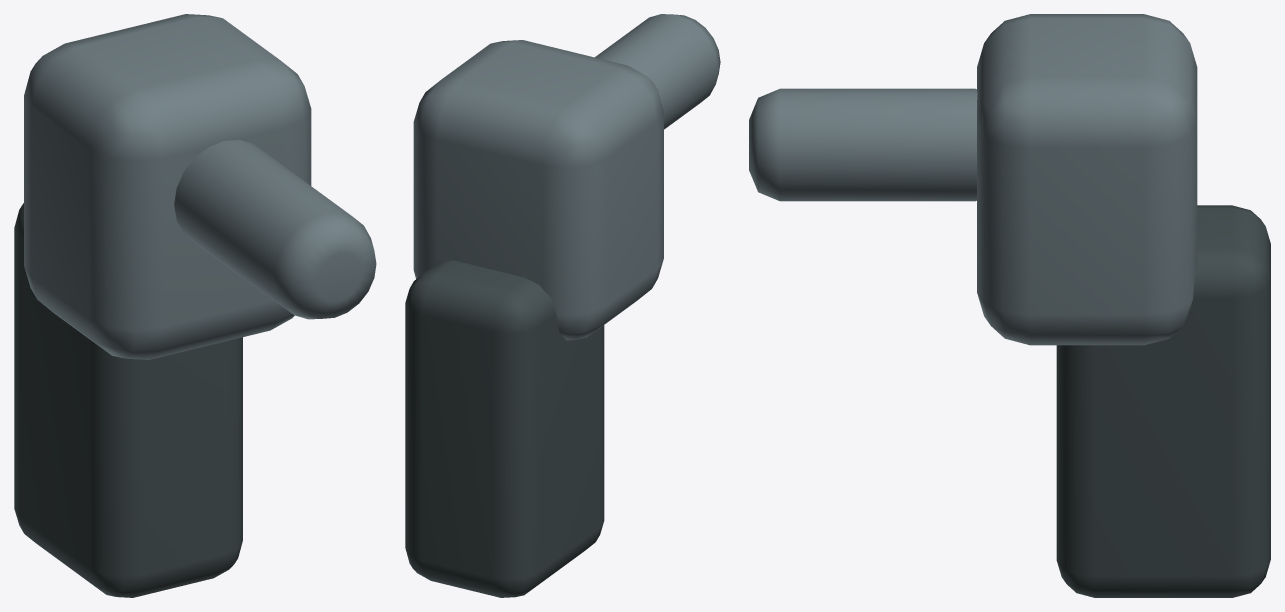
File: weapon_pistol.glb
3 views of the same model, side by side, from view 1: azimuth 30°, elevation 25°; view 2: azimuth 150°, elevation 25°; view 3: azimuth 270°, elevation 25° (orthographic). The views are drawn at different scales.
Visible parts, largest first — view 1: Receiver.005, Grip.005, Weapon barrel.005; view 2: Grip.005, Receiver.005, Weapon barrel.005; view 3: Receiver.005, Grip.005, Weapon barrel.005.
Boxes of the visible parts, x1,y1,x2,y2 form: Receiver.005: (24, 14, 311, 359); Grip.005: (14, 203, 242, 597); Weapon barrel.005: (174, 140, 376, 319); Grip.005: (405, 260, 604, 597); Receiver.005: (413, 40, 663, 340); Weapon barrel.005: (595, 14, 720, 129); Receiver.005: (977, 14, 1197, 345); Grip.005: (1056, 205, 1270, 597); Weapon barrel.005: (749, 88, 977, 201).
Bounding box in the file's own units: 0.16 × 0.38 × 0.3408.
